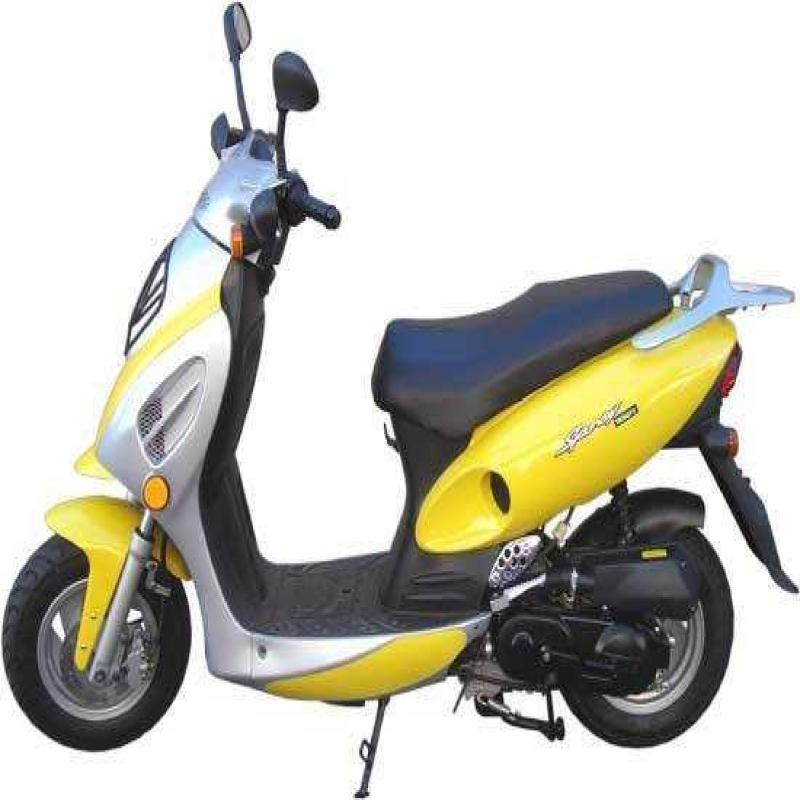bike: (10, 18, 800, 756)
